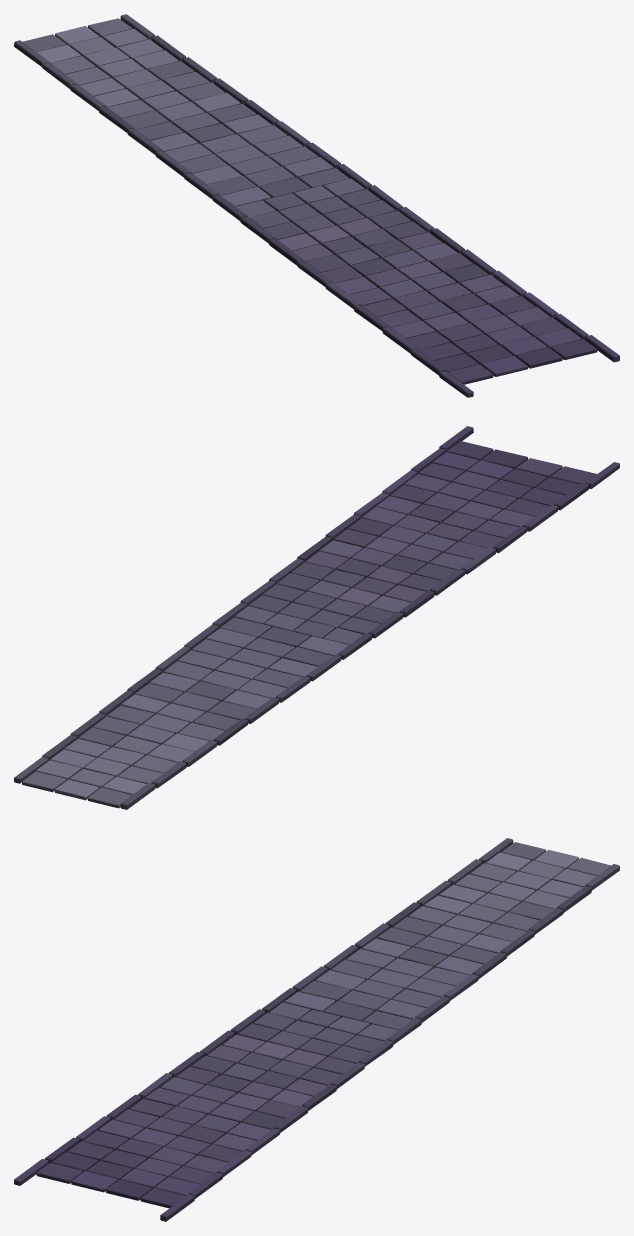
The model's file is caminho_altar.fbx.
3 views of the same model, one above another, from view 1: azimuth 30°, elevation 25°; view 2: azimuth 150°, elevation 25°; view 3: azimuth 330°, elevation 25° (orthographic).
Parts seen in each view (by area): view 1: caminho_altar; view 2: caminho_altar; view 3: caminho_altar.
Boxes of the visible parts, x1,y1,x2,y2 form: caminho_altar: (14,14,619,397); caminho_altar: (14,426,619,809); caminho_altar: (14,838,619,1221).
Size of the model in its own units: 15.51 by 0.6043 by 83.03.
